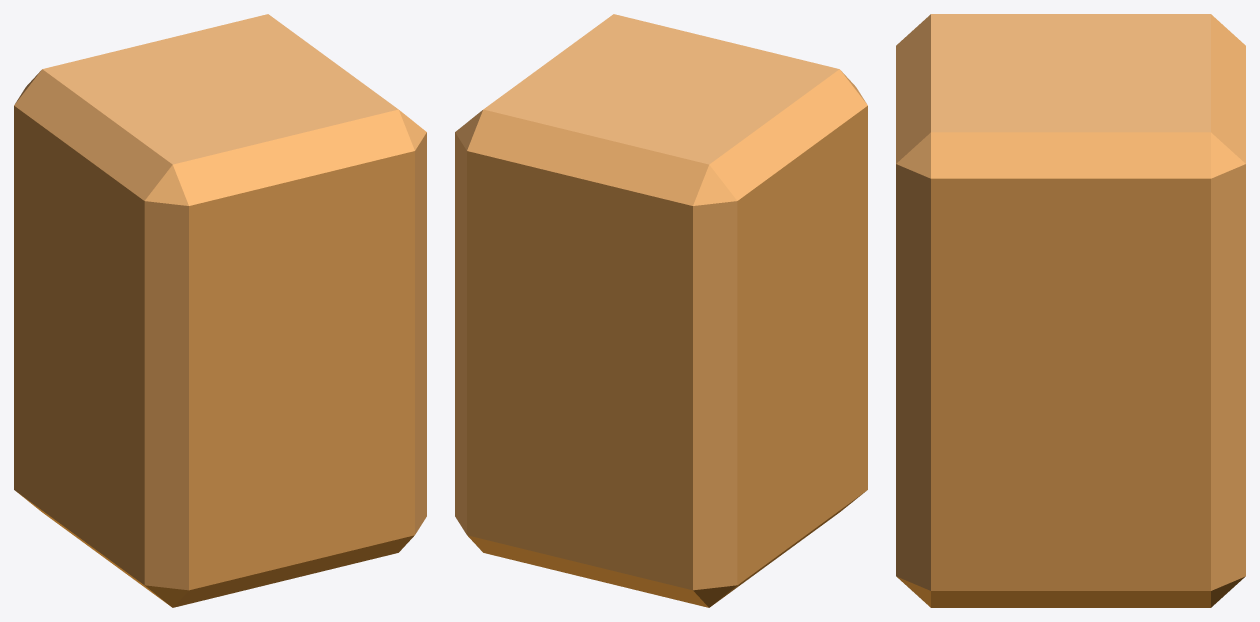
File: m_kub_clay_vrickMid.FBX
The picture shows the model from 3 angles, left to right: view 1: azimuth 30°, elevation 25°; view 2: azimuth 150°, elevation 25°; view 3: azimuth 270°, elevation 25°; orthographic projection. The views are drawn at different scales.
Visible parts, largest first — view 1: m_kub_clay_vrickMid; view 2: m_kub_clay_vrickMid; view 3: m_kub_clay_vrickMid.
Part boxes in pixels (<box>): m_kub_clay_vrickMid: <box>14,14,426,607</box>; m_kub_clay_vrickMid: <box>455,14,867,607</box>; m_kub_clay_vrickMid: <box>896,14,1245,607</box>.
Bounding box in the file's own units: 1 × 1.5 × 1.
